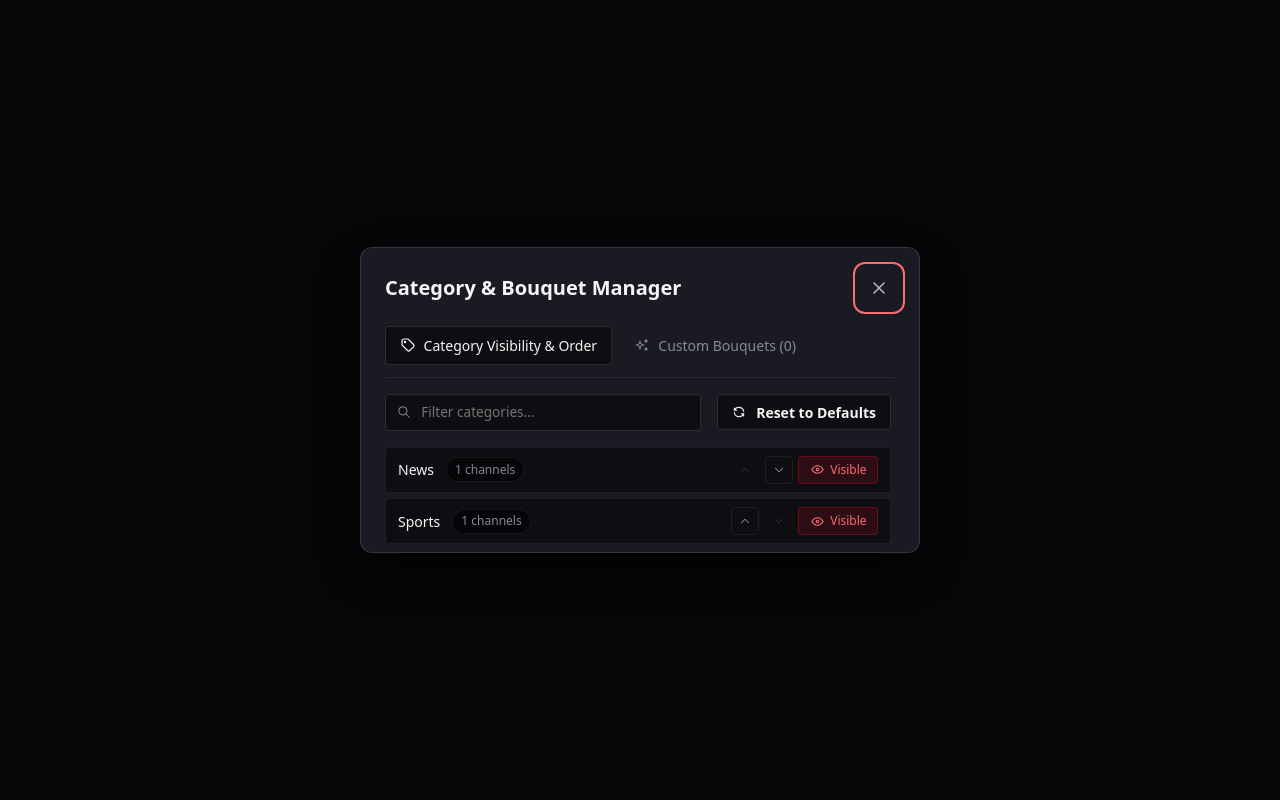
Test: BouquetManagerModal › switches to bouquets tab and starts creation mode
The width and height of the screenshot is (1280, 800).
Click the tab with class "bouquet-tab-btn" showing "Custom Bouquets (0)": [715, 345] box top-left (620, 326), bottom-right (811, 365)
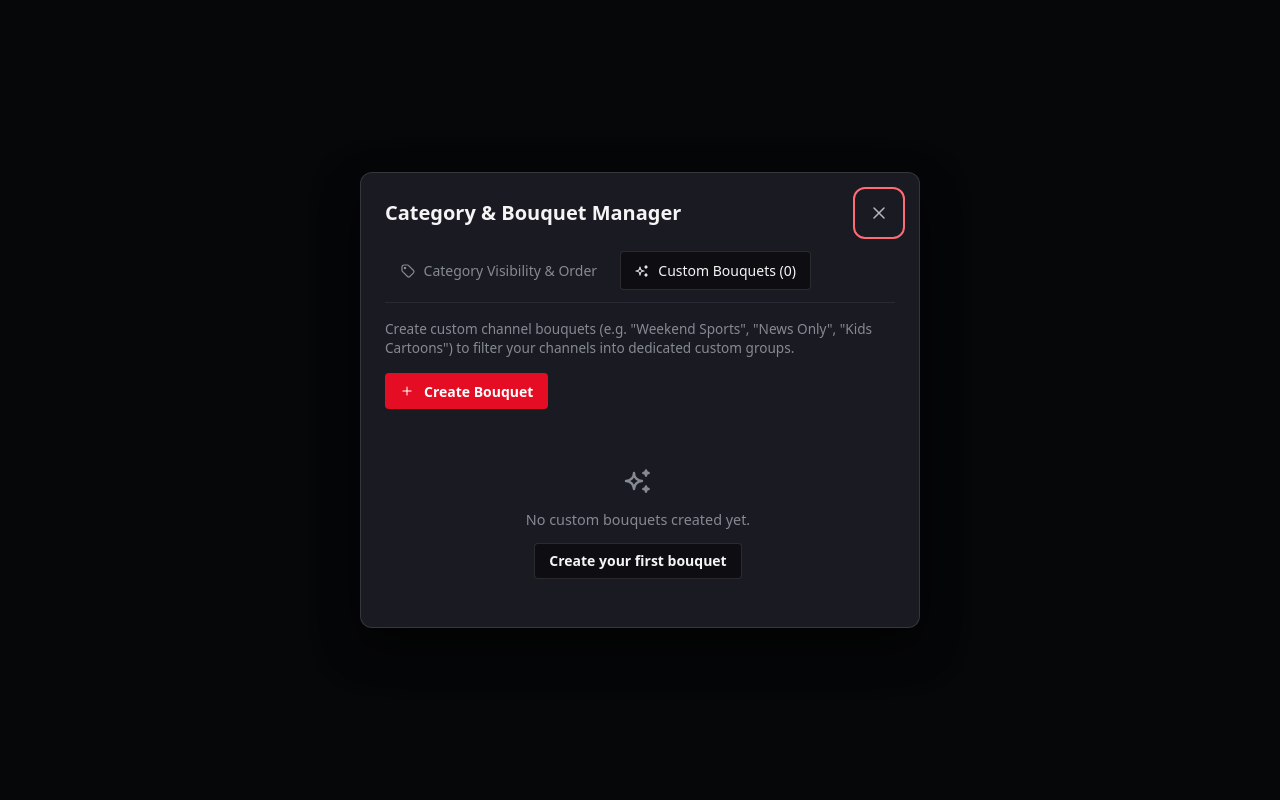
Check: the text "No custom bouquets created yet" is shown, box top-left (526, 510), bottom-right (750, 529)
Check: the button "Create your first bouquet" is shown
Click the button "Create your first bouquet": [638, 561] box top-left (534, 543), bottom-right (742, 579)
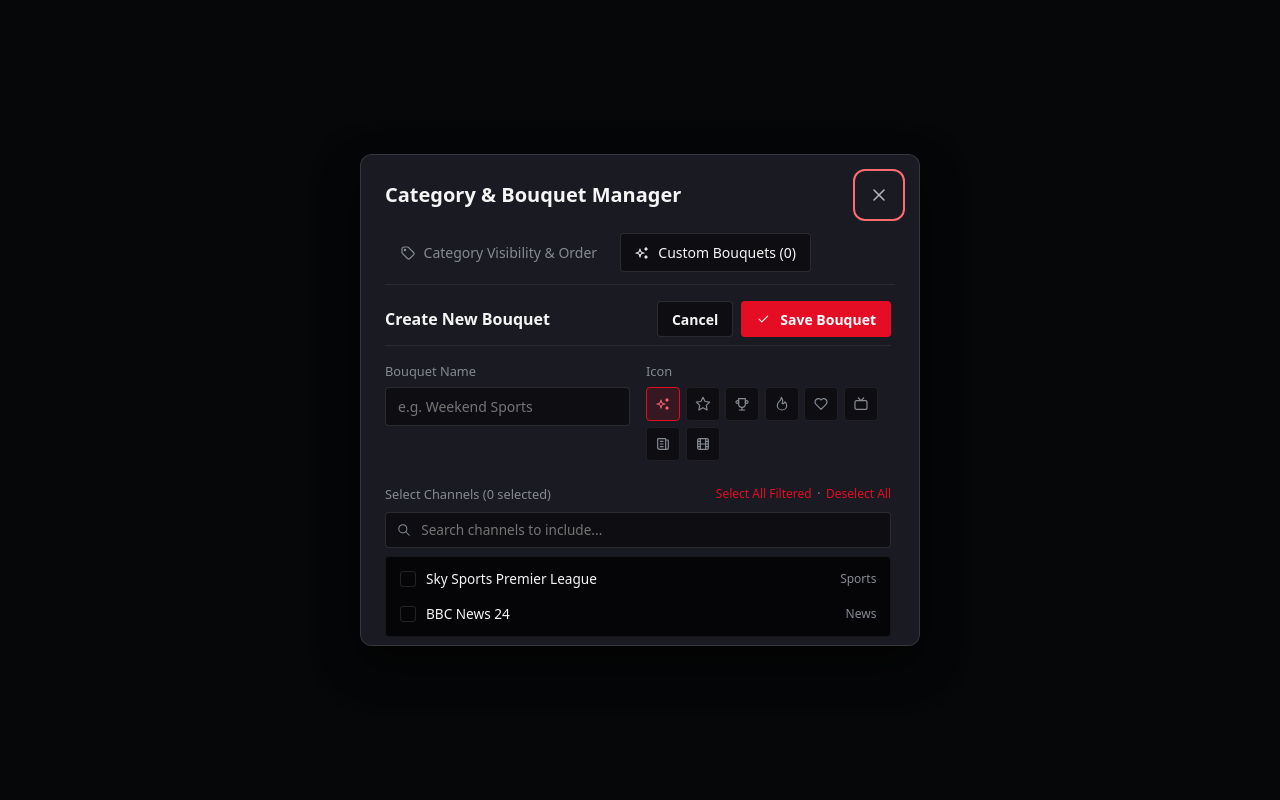
Check: the text "Create New Bouquet" is shown, box top-left (385, 307), bottom-right (550, 331)
Check: the field with id "bq-name-input" is shown, box top-left (385, 387), bottom-right (630, 426)
